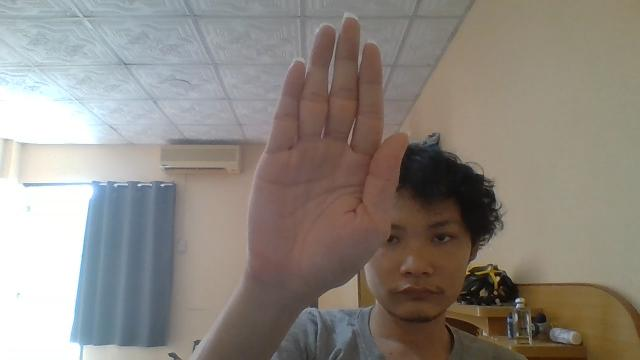Stop: (245, 12, 409, 302)
